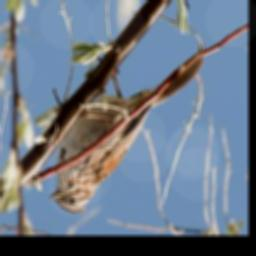Sparrow: (49, 52, 205, 214)
